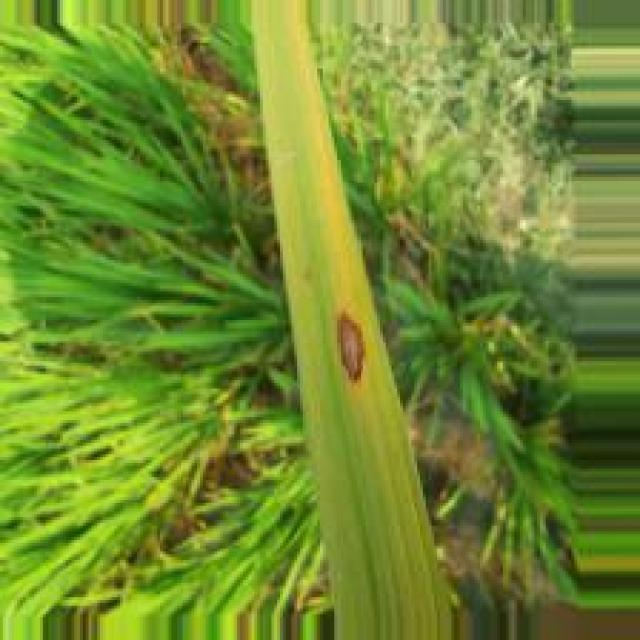Leaf_Blast: (336, 306, 369, 391)
